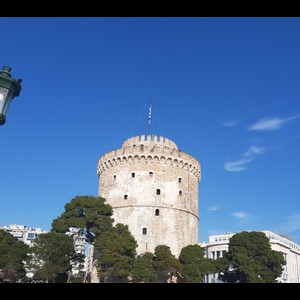White Tower: (91, 97, 204, 255)
